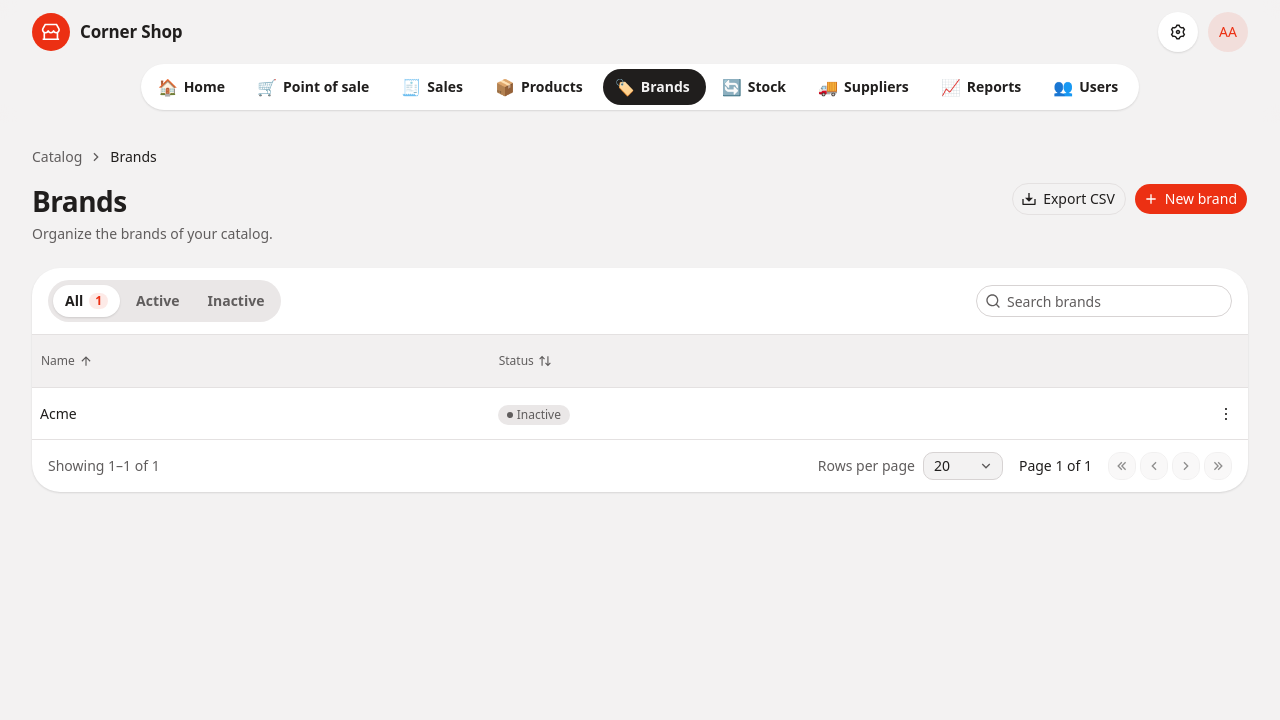
Test: BrandListPage › activates an inactive brand without confirmation
The image size is (1280, 720).
Expected: the button "Acme" is shown, x1=40 y1=404 x2=77 y2=424
Click the button named "Actions" at [1226, 414], box x1=1212 y1=400 x2=1240 y2=428
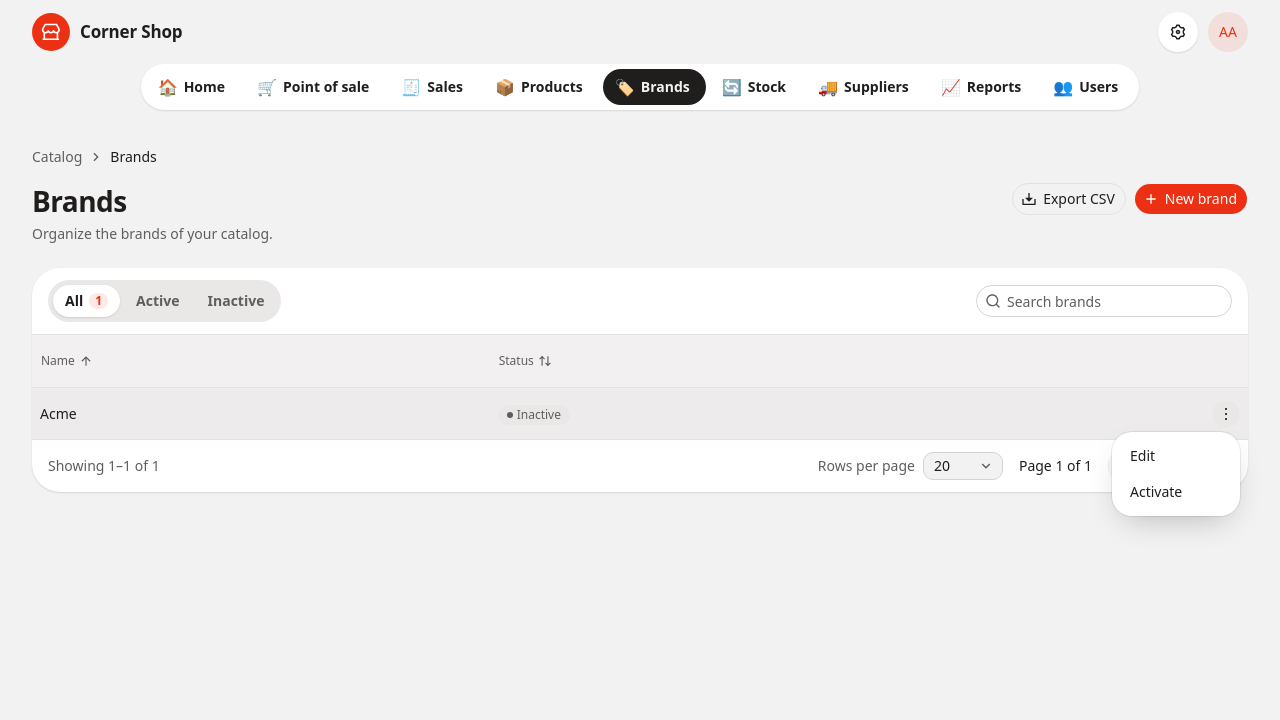
Click the menu item "Activate" at [1156, 492], box x1=1130 y1=482 x2=1182 y2=501
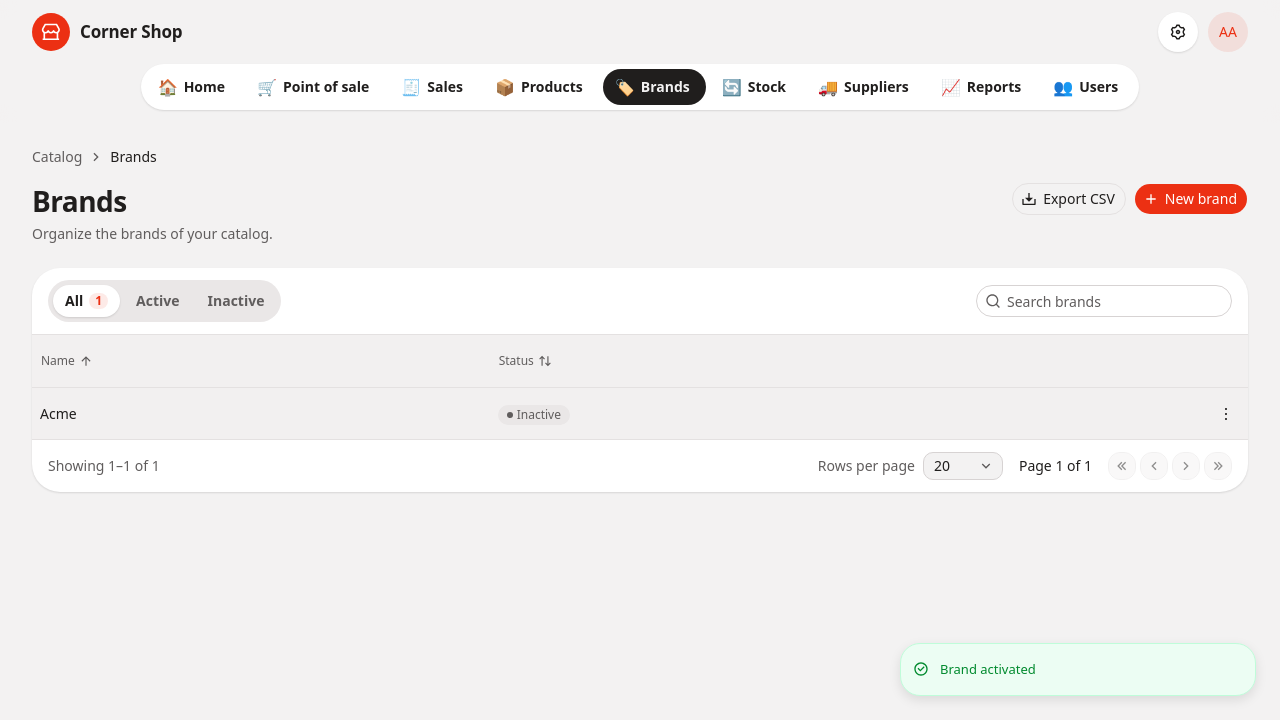
Expected: the text "Brand activated" is shown, x1=940 y1=660 x2=1036 y2=679
